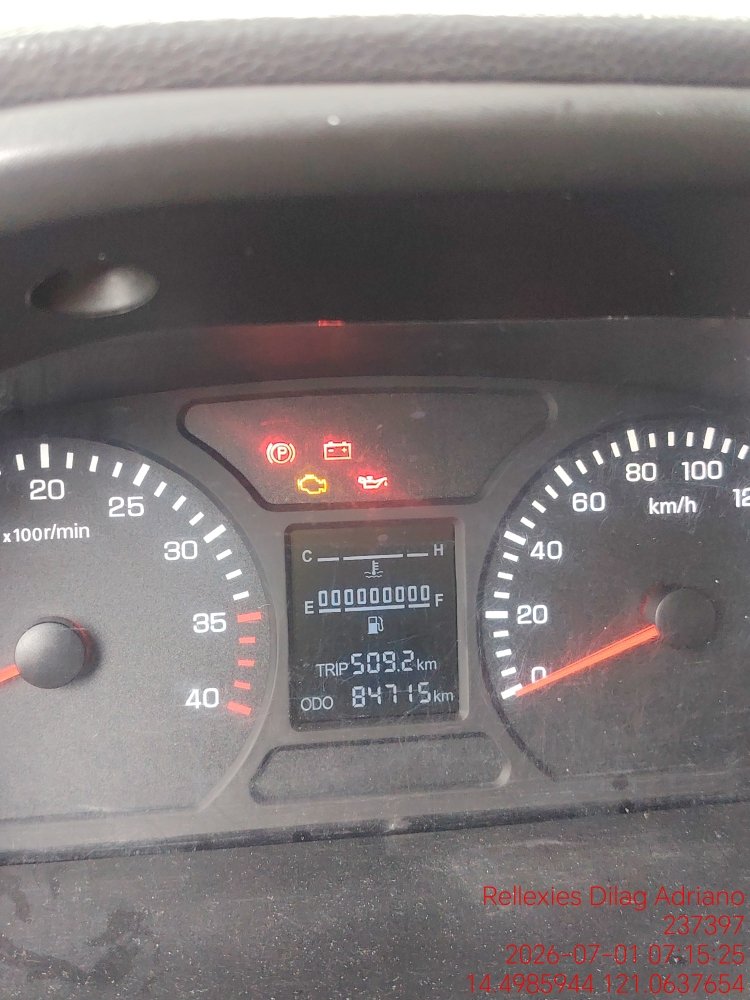grid_pose: (169, 67, 429, 612)
